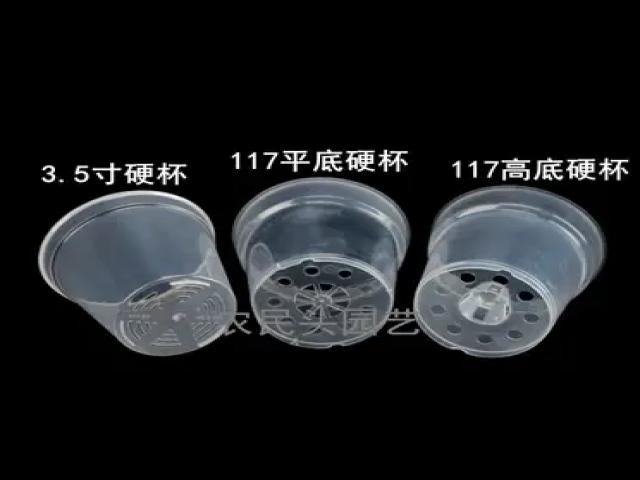cup: (414, 186, 605, 357), (39, 192, 235, 356), (232, 178, 409, 348)
